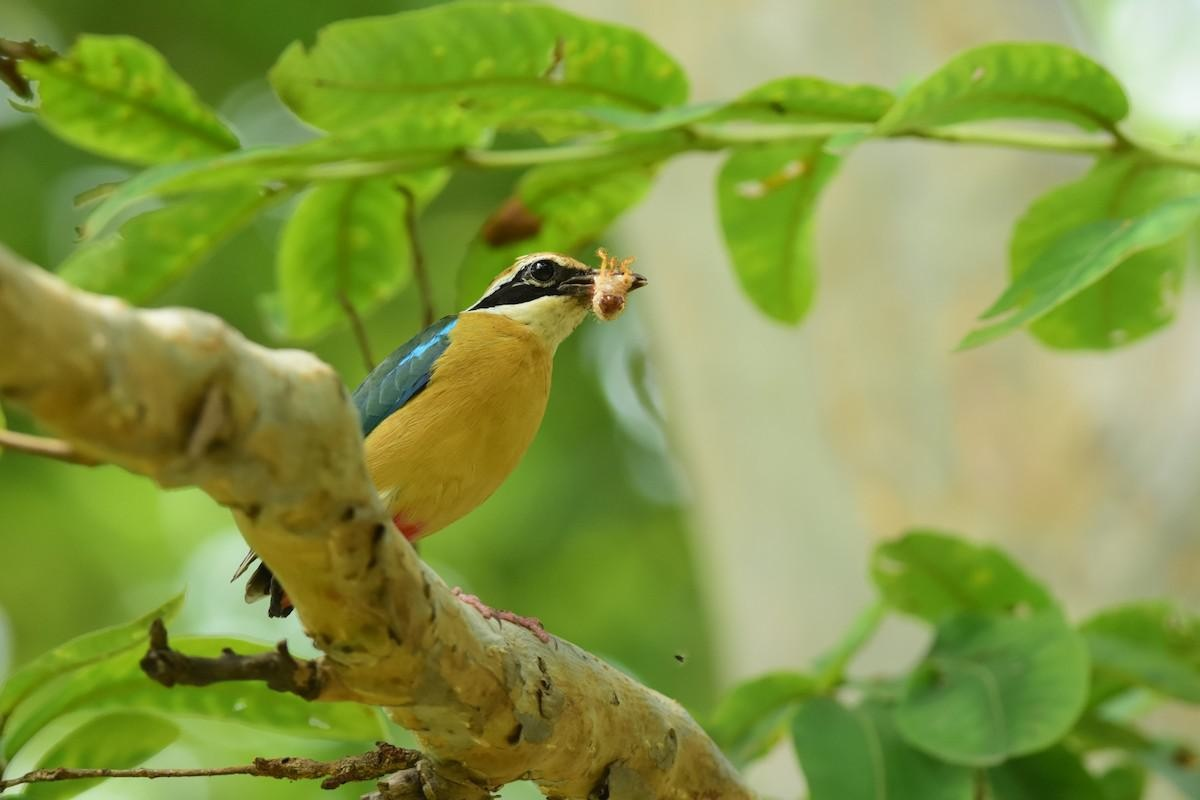pitta: (160, 185, 708, 631)
